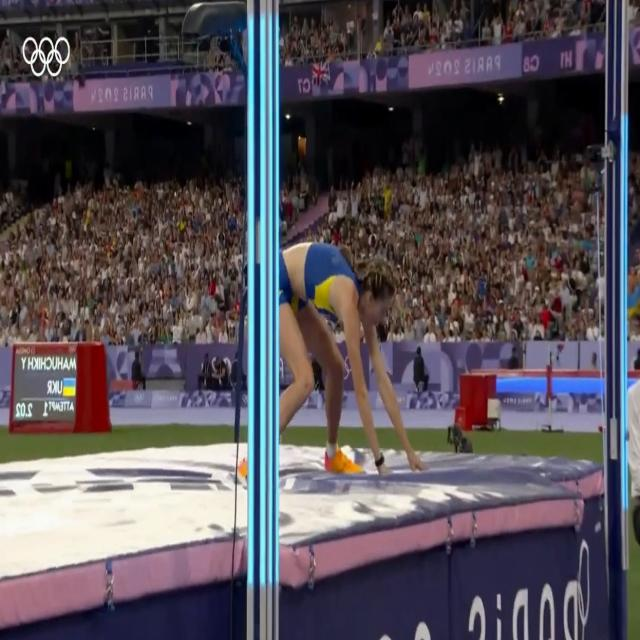land: (236, 238, 429, 489)
